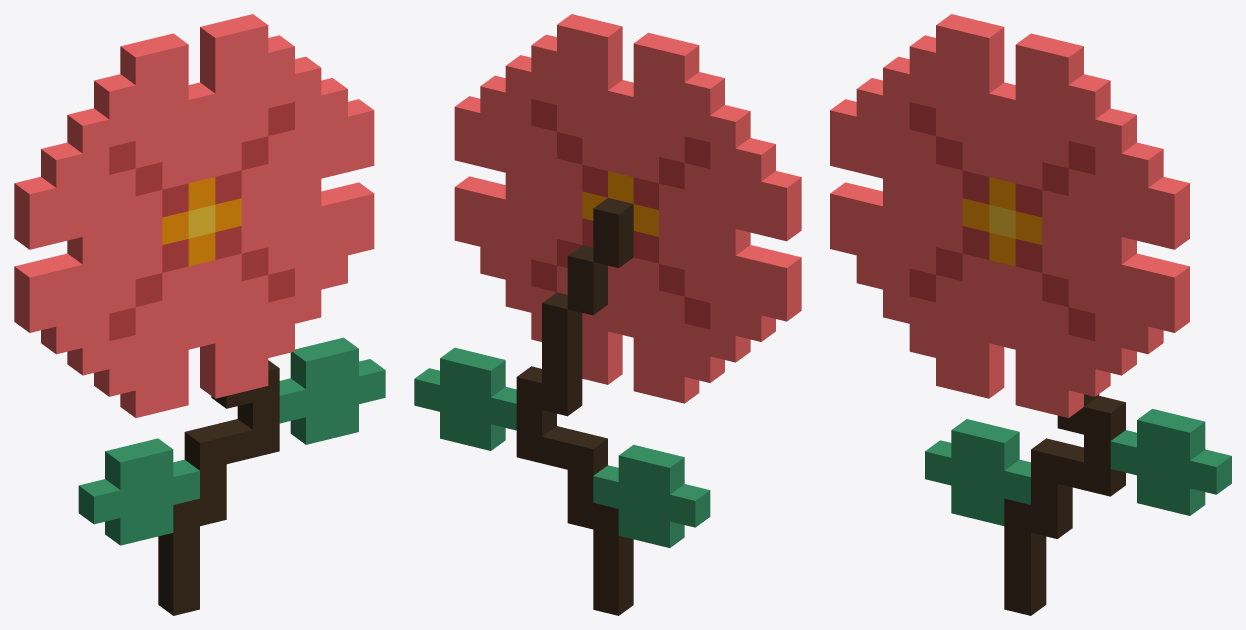
File: pink FlowerWithLeaf.obj
3 renders of one model, left to right at view 1: azimuth 30°, elevation 25°; view 2: azimuth 150°, elevation 25°; view 3: azimuth 330°, elevation 25°, orthographic. The views are drawn at different scales.
Visible parts, largest first — view 1: pink FlowerWithLeaf; view 2: pink FlowerWithLeaf; view 3: pink FlowerWithLeaf.
Boxes of the visible parts, box(x1,y1,x2,y2) form: pink FlowerWithLeaf: box(14, 14, 385, 615); pink FlowerWithLeaf: box(414, 14, 801, 615); pink FlowerWithLeaf: box(830, 14, 1231, 615).
Bounding box in the file's own units: 14 × 21 × 2.
1 material, 1 textured.
